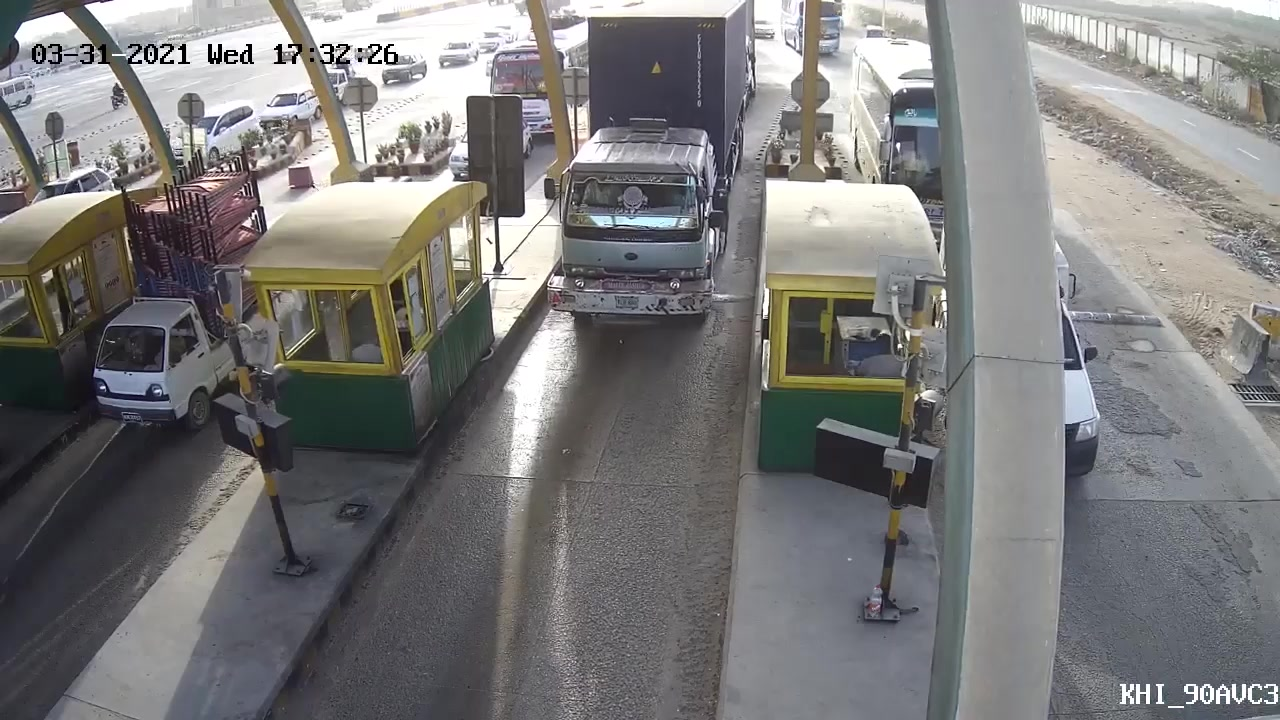F6: (538, 1, 761, 341)
